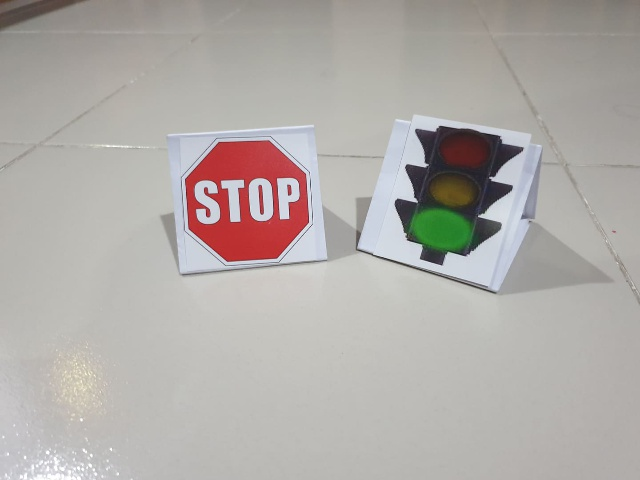Green: (400, 119, 506, 280)
Stop: (173, 134, 318, 270)
